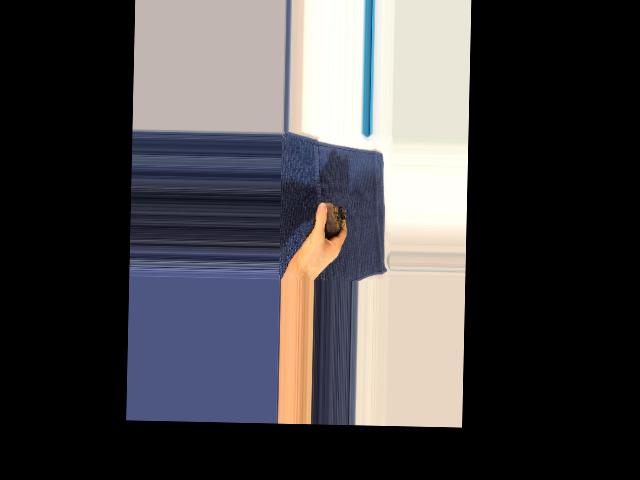beet: (301, 201, 345, 238)
